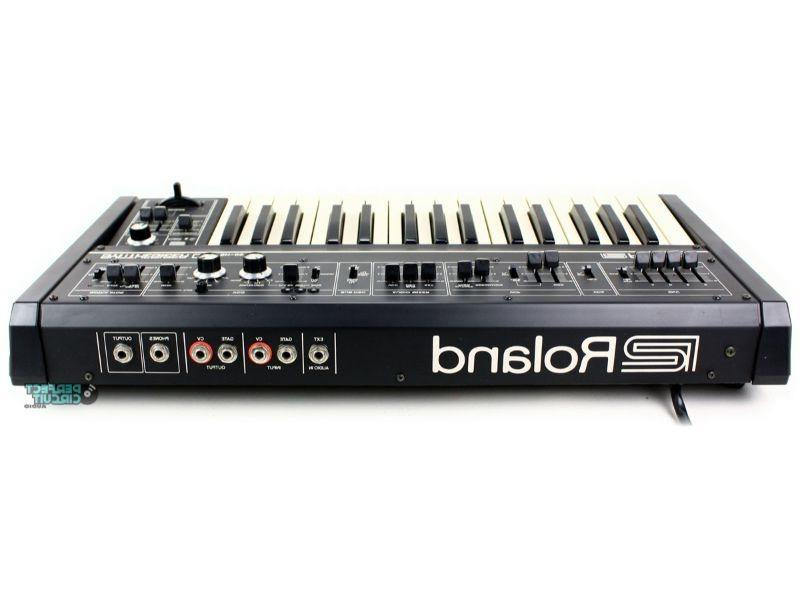synthesizer: (20, 184, 787, 410)
